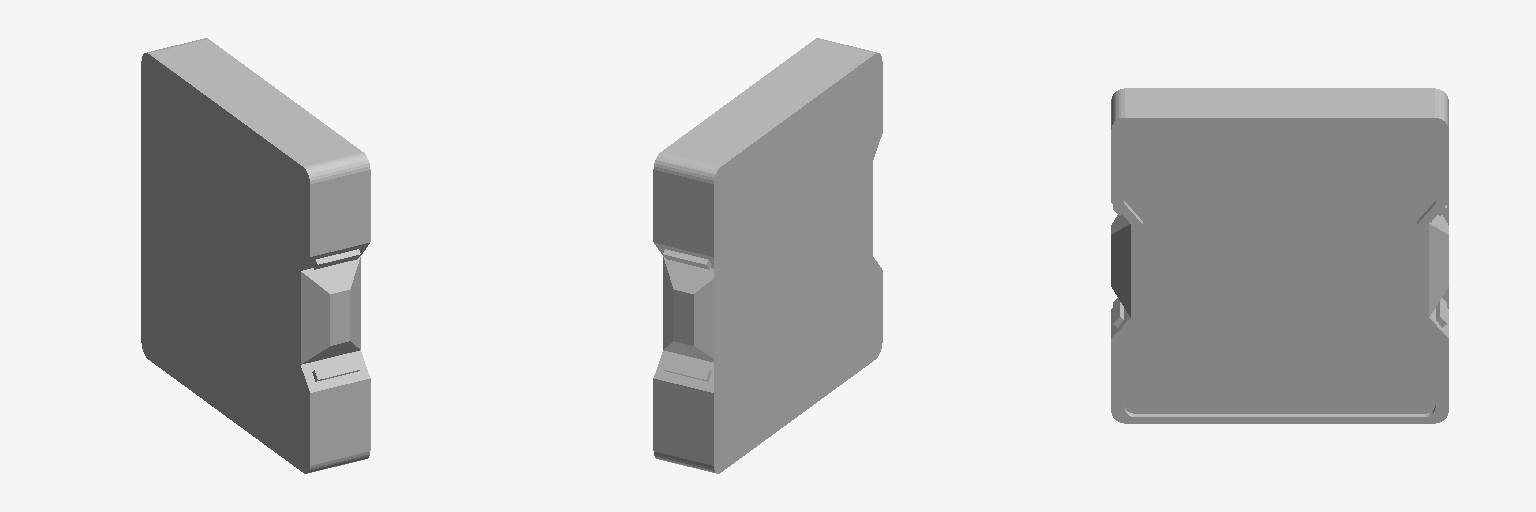
The model's file is tempcontrol.obj.
3 renders of one model, left to right at view 1: azimuth 30°, elevation 25°; view 2: azimuth 150°, elevation 25°; view 3: azimuth 270°, elevation 25°, orthographic.
Parts seen in each view (by area): view 1: Cube1; view 2: Cube1; view 3: Cube1.
Boxes of the visible parts, <box> form: Cube1: <box>141,38,370,473</box>; Cube1: <box>653,38,882,473</box>; Cube1: <box>1111,88,1448,423</box>.
Bounding box in the file's own units: 0.412 × 2 × 2.